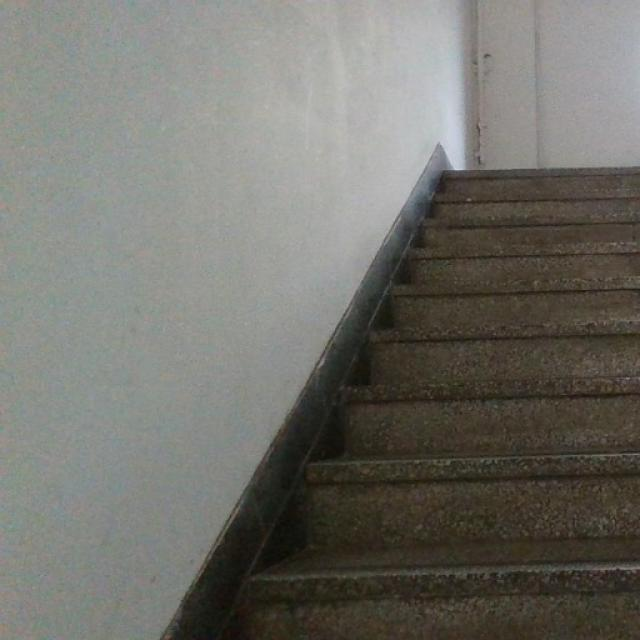Stairs: (209, 160, 639, 639)
